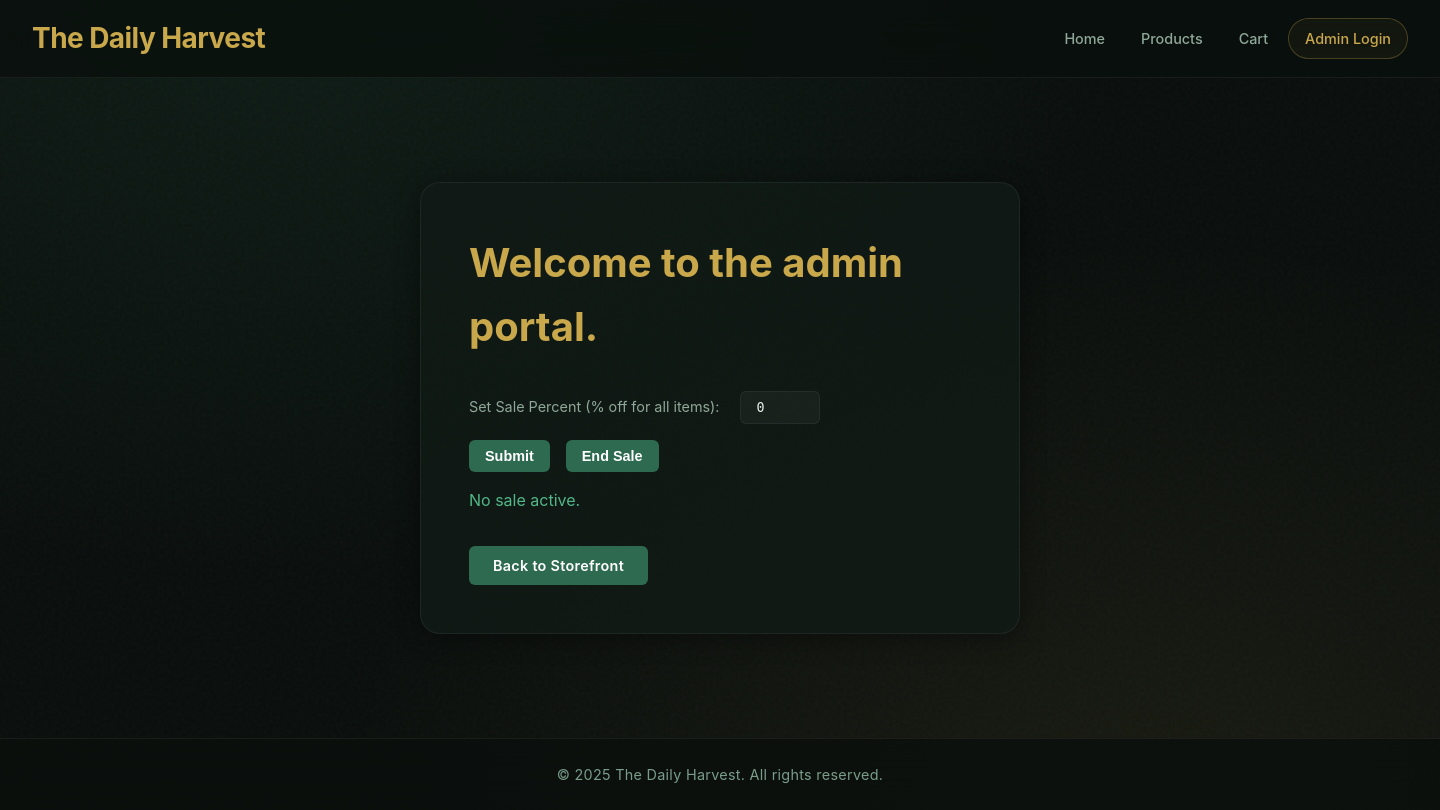
Test case: AdminPage › sets sale percent on valid input
Replace the text in the field labelled "Set Sale Percent (% off for all items):" with "25" at (780, 408), box [740, 391, 820, 424]
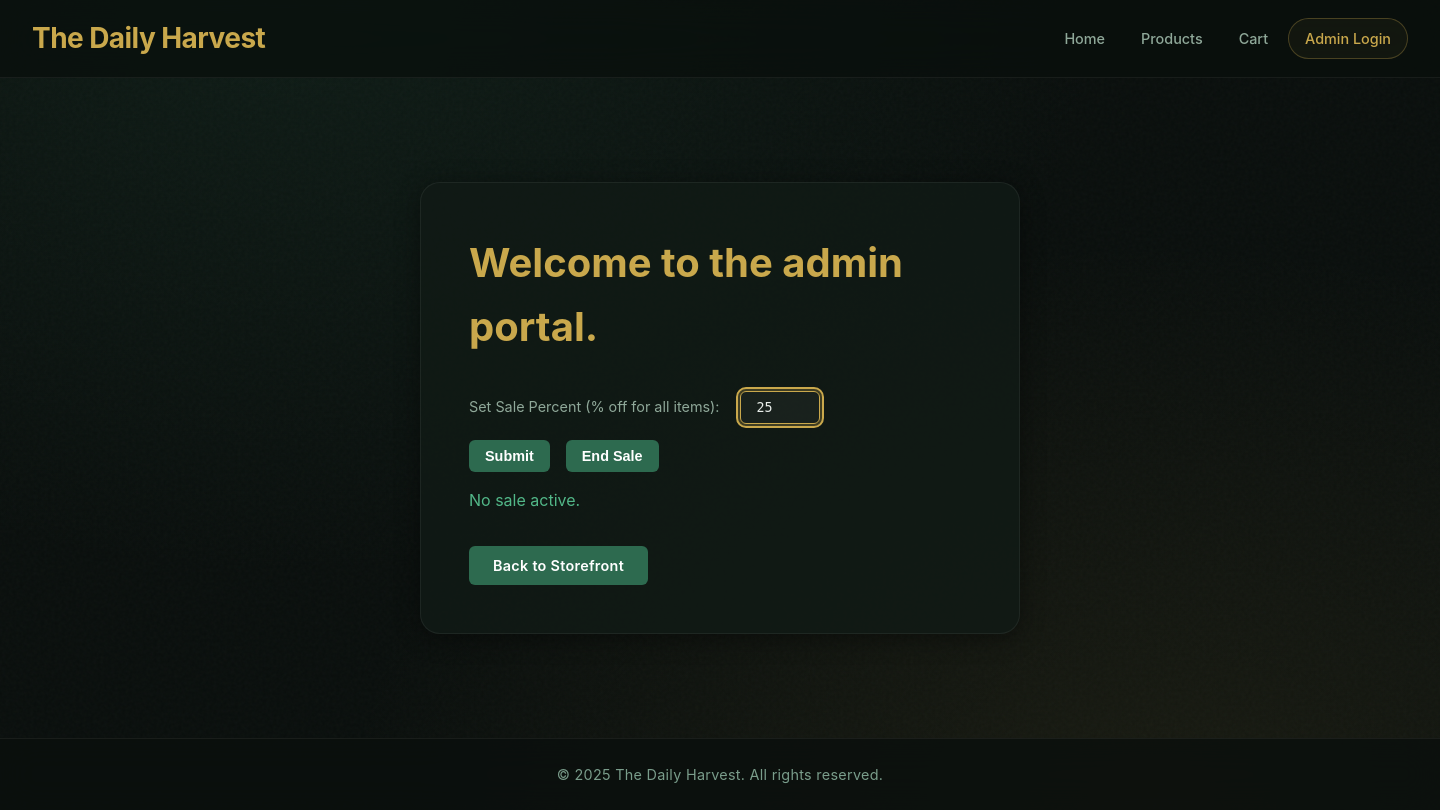
Click the button "Submit" at (509, 456), box [469, 440, 550, 472]
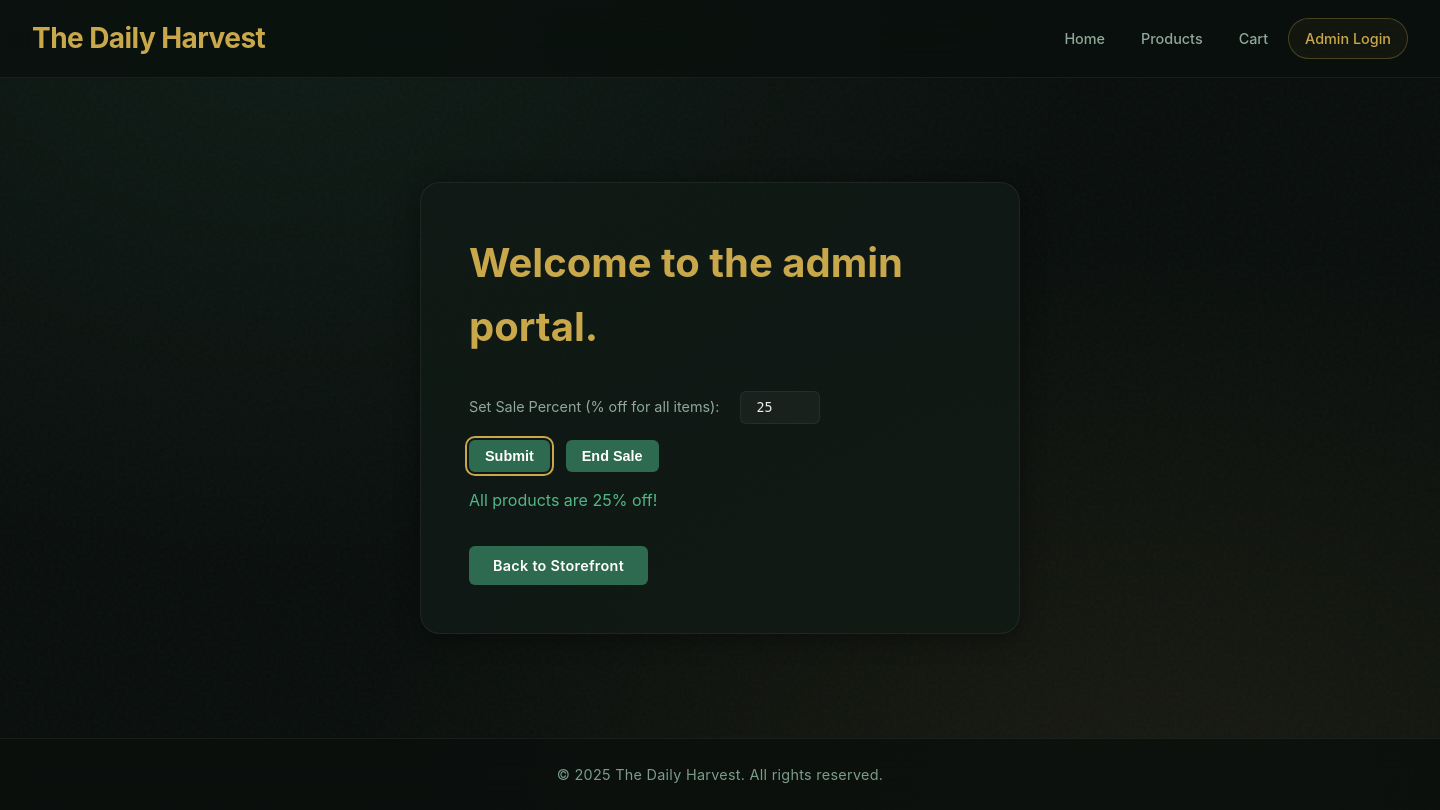
Result: the text "All products are 25% off!" is shown at [469, 490, 657, 510]
